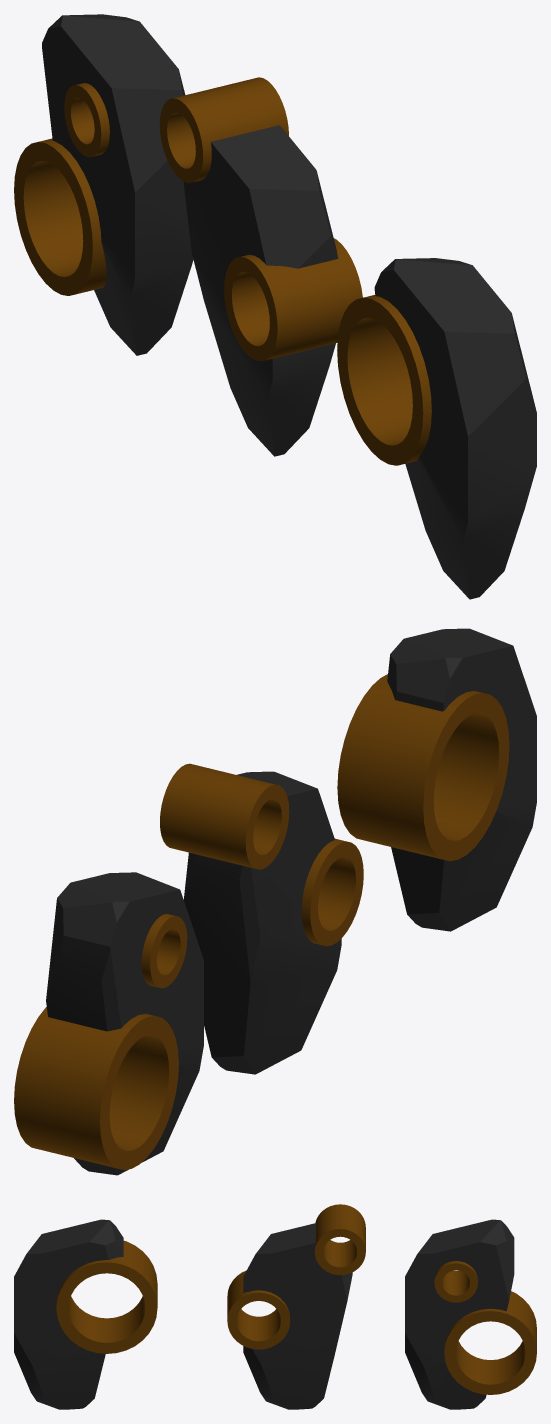
The model's file is piedras_flotantes.fbx.
3 views of the same model, one above another, from view 1: azimuth 30°, elevation 25°; view 2: azimuth 150°, elevation 25°; view 3: azimuth 270°, elevation 25° (orthographic). The views are drawn at different scales.
Visible parts, largest first — view 1: Cube.160, Cube.158, Cube.159, Cylinder.068, Cylinder.067, Cylinder.065, Cylinder.066, Cylinder.064; view 2: Cube.159, Cylinder.068, Cube.160, Cube.158, Cylinder.065, Cylinder.066, Cylinder.067, Cylinder.064; view 3: Cube.159, Cube.160, Cube.158, Cylinder.068, Cylinder.065, Cylinder.066, Cylinder.067, Cylinder.064.
Boxes of the visible parts, left/top/right/bottom form: Cube.160: left=374, top=258, right=536, bottom=599; Cube.158: left=42, top=14, right=193, bottom=355; Cube.159: left=183, top=125, right=338, bottom=456; Cylinder.068: left=337, top=295, right=431, bottom=465; Cylinder.067: left=224, top=238, right=362, bottom=361; Cylinder.065: left=14, top=138, right=106, bottom=295; Cylinder.066: left=159, top=77, right=288, bottom=183; Cylinder.064: left=64, top=83, right=109, bottom=157; Cube.159: left=183, top=771, right=341, bottom=1074; Cylinder.068: left=337, top=674, right=509, bottom=861; Cube.160: left=387, top=628, right=536, bottom=931; Cube.158: left=46, top=872, right=203, bottom=1175; Cylinder.065: left=14, top=1007, right=178, bottom=1170; Cylinder.066: left=160, top=763, right=289, bottom=869; Cylinder.067: left=301, top=838, right=363, bottom=946; Cylinder.064: left=141, top=914, right=187, bottom=988; Cube.159: left=243, top=1223, right=352, bottom=1409; Cube.160: left=14, top=1219, right=123, bottom=1409; Cube.158: left=405, top=1219, right=514, bottom=1409; Cylinder.068: left=56, top=1240, right=157, bottom=1353; Cylinder.065: left=444, top=1291, right=536, bottom=1394; Cylinder.066: left=314, top=1204, right=365, bottom=1275; Cylinder.067: left=227, top=1270, right=290, bottom=1349; Cylinder.064: left=434, top=1261, right=477, bottom=1302.
Size of the model in its own units: 98.02 by 345 by 880.
